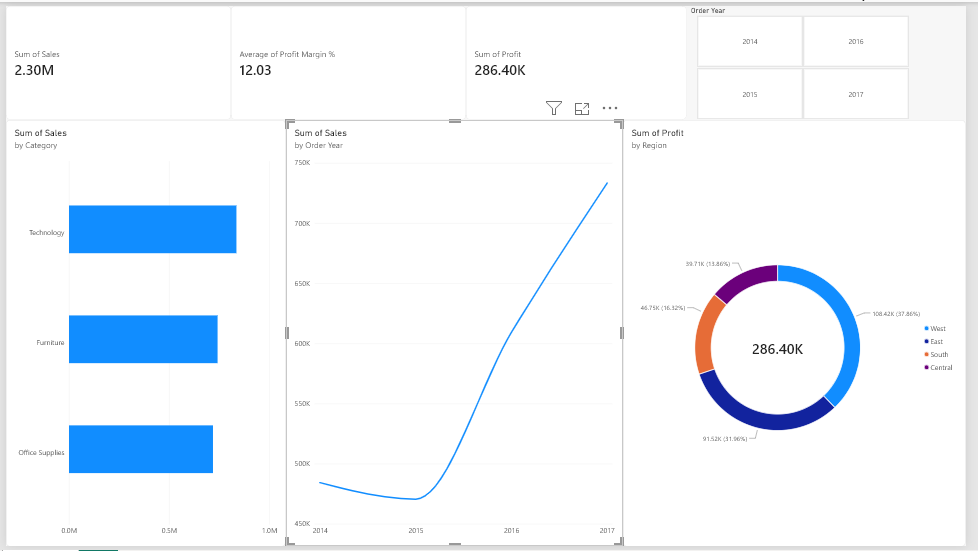

This screenshot's page, from the dashboard's own definition file:
{"tool":"powerbi","page":{"name":"Page 1","canvas":[1920,1080],"ordinal":0},"visuals":[{"type":"cardVisual","fields":{"Data":["Sum(cleaned_superstore.Sales)"]},"box":[0,0,450.1,227.1],"z":0},{"type":"cardVisual","fields":{"Data":["Sum(cleaned_superstore.Profit)"]},"box":[920.8,0,441.8,227.1],"z":1},{"type":"cardVisual","fields":{"Data":["Avg(cleaned_superstore.Profit Margin %)"]},"box":[450.1,0,470.7,227.1],"z":3},{"type":"clusteredBarChart","fields":{"Category":["cleaned_superstore.Category"],"Y":["Sum(cleaned_superstore.Sales)"]},"box":[0,227.1,559.5,852.6],"z":4},{"type":"donutChart","fields":{"Category":["cleaned_superstore.Region"],"Y":["Sum(cleaned_superstore.Profit)"]},"box":[1234.6,227.1,685.4,852.6],"z":5},{"type":"lineChart","fields":{"Category":["cleaned_superstore.Order Year"],"Y":["Sum(cleaned_superstore.Sales)"]},"box":[559.5,227.1,675.1,852.6],"z":6},{"type":"slicer","fields":{"Values":["cleaned_superstore.Order Year"]},"box":[1362,0,462,228],"z":7}]}

Visuals, with their boxes in screenshot pixels (x1, y1, x2, y2), scaled from the page's 1920x1080 canvas onto the 978x551 screenshot:
cardVisual - Sum(cleaned_superstore.Sales): x1=0, y1=0, x2=229, y2=116
cardVisual - Sum(cleaned_superstore.Profit): x1=469, y1=0, x2=694, y2=116
cardVisual - Avg(cleaned_superstore.Profit Margin %): x1=229, y1=0, x2=469, y2=116
clusteredBarChart - cleaned_superstore.Category x Sum(cleaned_superstore.Sales): x1=0, y1=116, x2=285, y2=550
donutChart - cleaned_superstore.Region x Sum(cleaned_superstore.Profit): x1=629, y1=116, x2=977, y2=550
lineChart - cleaned_superstore.Order Year x Sum(cleaned_superstore.Sales): x1=285, y1=116, x2=629, y2=550
slicer - cleaned_superstore.Order Year: x1=694, y1=0, x2=929, y2=116
